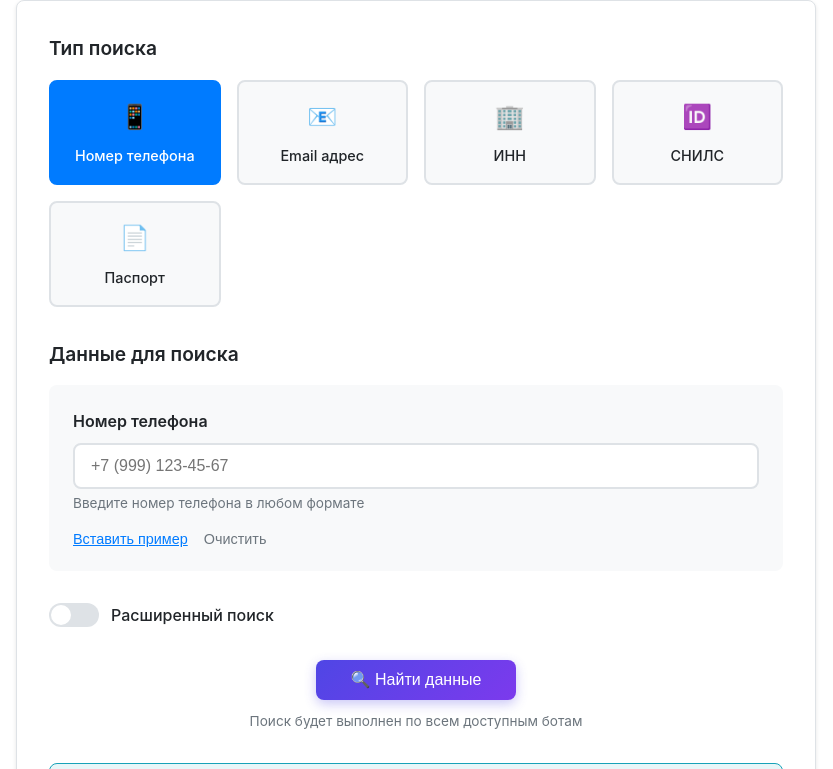
Test: SearchForm › shows advanced options when toggle is enabled
Click the checkbox labelled "Расширенный поиск" at [162, 616], box [49,603,274,628]
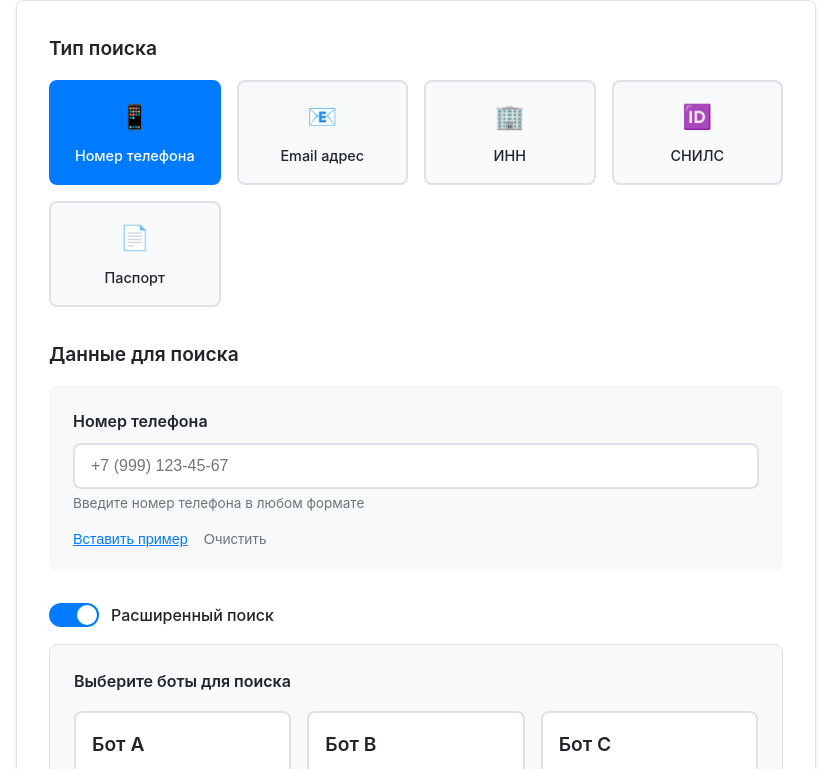
Now the heading "Выберите боты для поиска" is shown, box [74,671,291,691]
Now the text "Бот A" is shown, box [92,732,144,756]
Now the text "Бот B" is shown, box [325,732,376,756]
